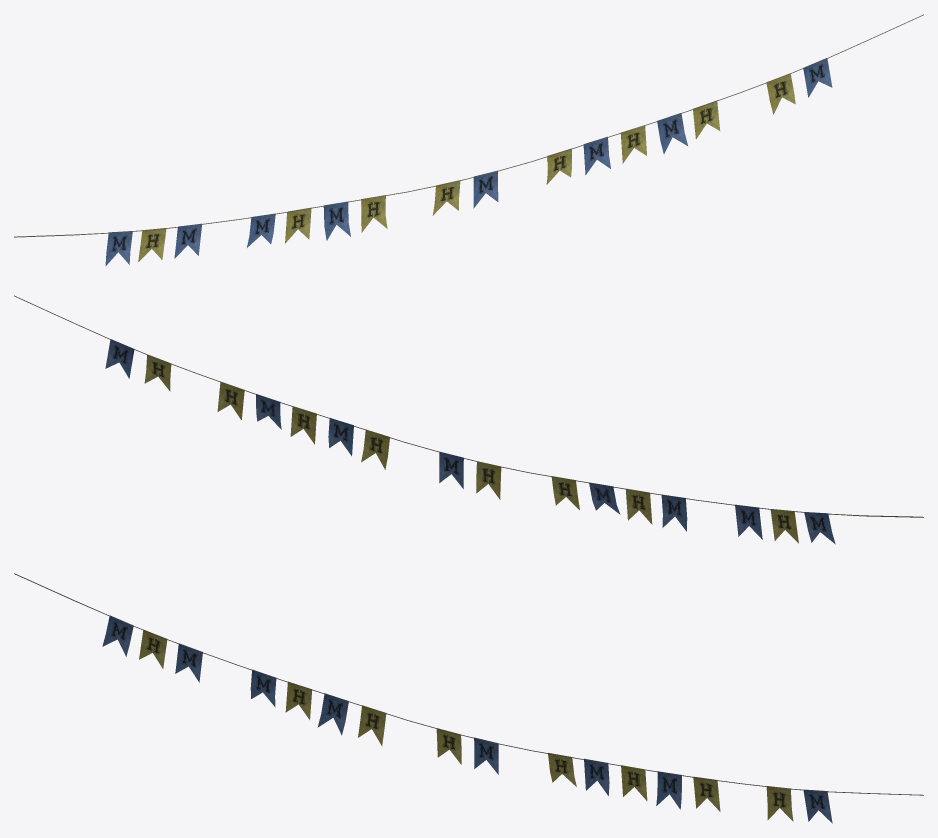
File: Hanging flags_1.FBX
3 renders of one model, top to bottom at view 1: azimuth 30°, elevation 25°; view 2: azimuth 150°, elevation 25°; view 3: azimuth 330°, elevation 25°, orthographic.
Visible parts, largest first — view 1: Hanging flags_1; view 2: Hanging flags_1; view 3: Hanging flags_1.
Boxes of the visible parts, box(x1,y1,x2,y2) form: Hanging flags_1: box(14, 14, 923, 265); Hanging flags_1: box(14, 295, 923, 544); Hanging flags_1: box(14, 573, 923, 823).
Size of the model in its own units: 5.44 by 0.4809 by 0.08.
